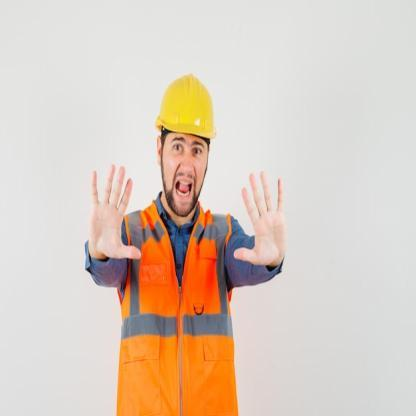stop: (87, 159, 142, 264), (232, 167, 288, 268)
